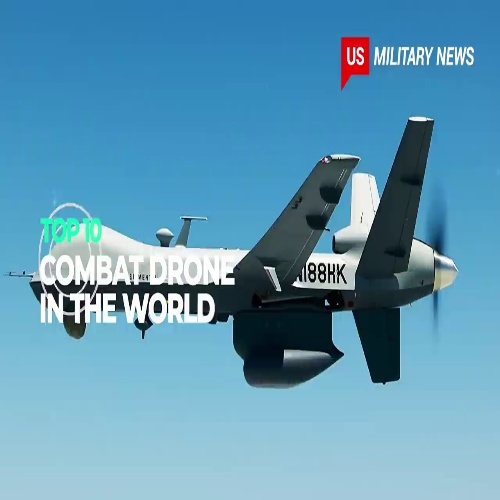uav472: (15, 116, 465, 388)
